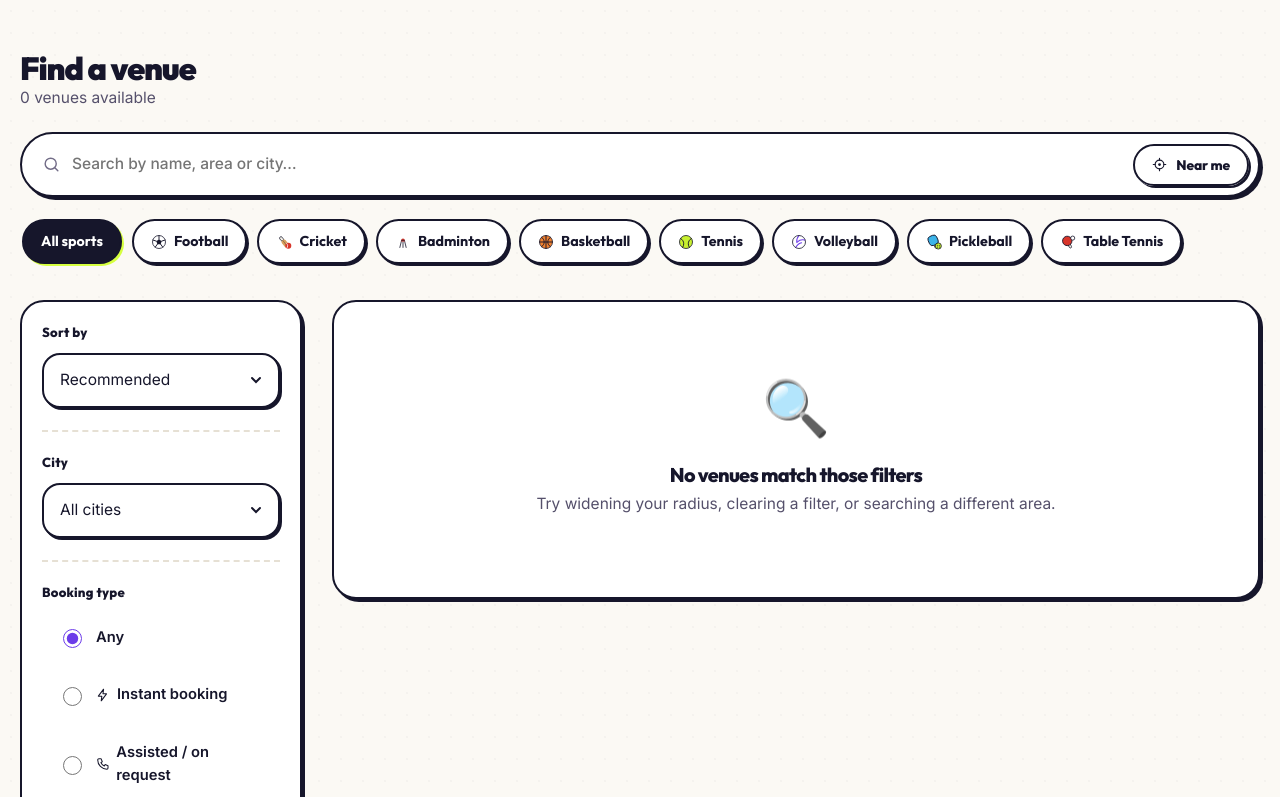
Test: Find venues › is offered for search text alone, and clears the box and the URL
This screenshot has width=1280, height=797.
Type "turf" into the field named "Search venues".
click(597, 165); type("turf")  # box [72,141,1122,188]
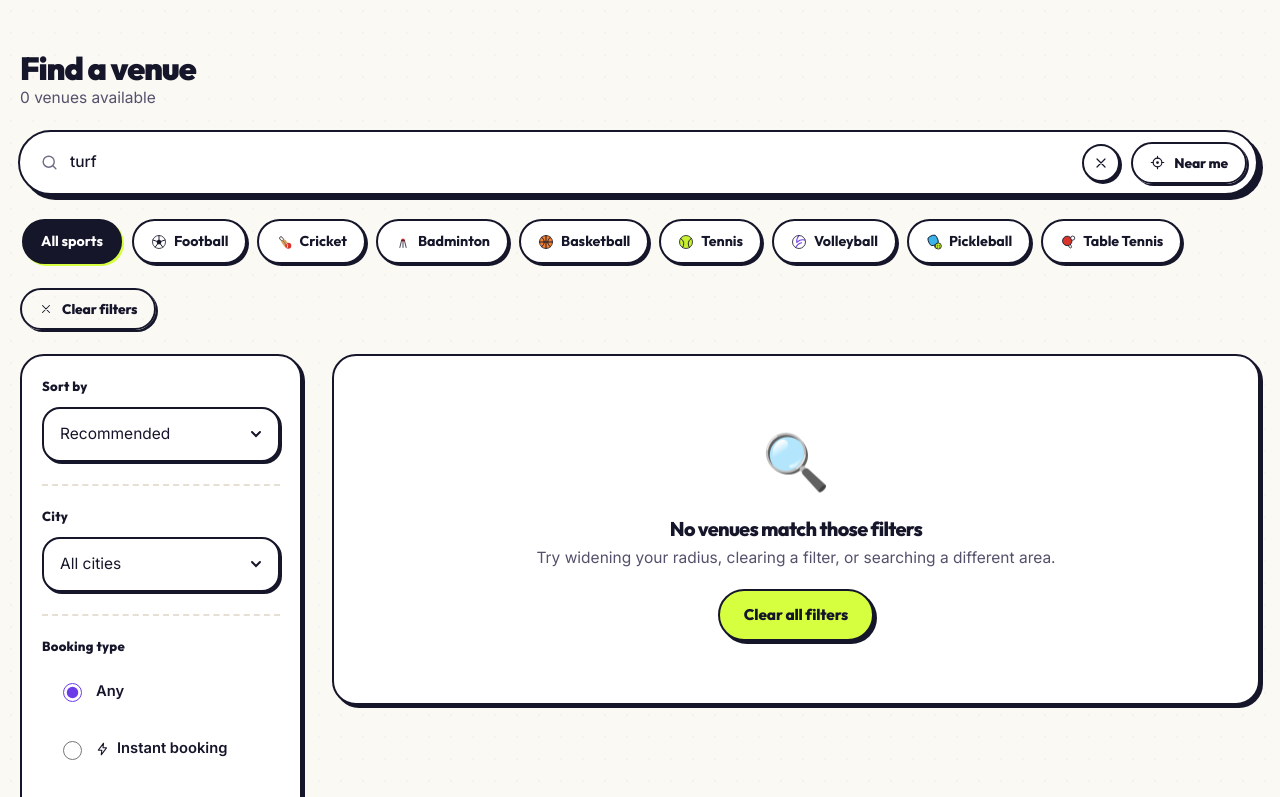
Expected: the button "Clear filters" is shown
Click the button "Clear filters".
click(88, 309)  # box [20,288,156,330]
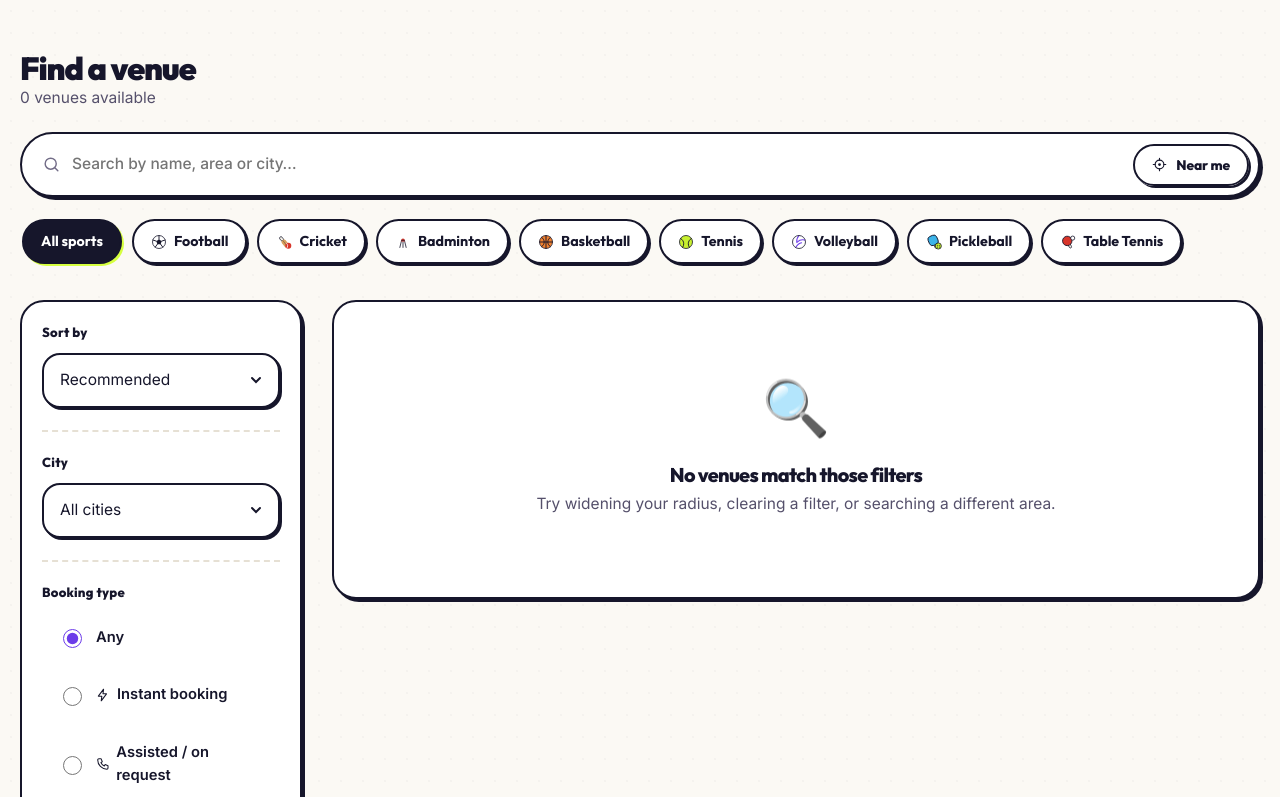
Expected: the field named "Search venues" is empty, [72,141,1122,188]
